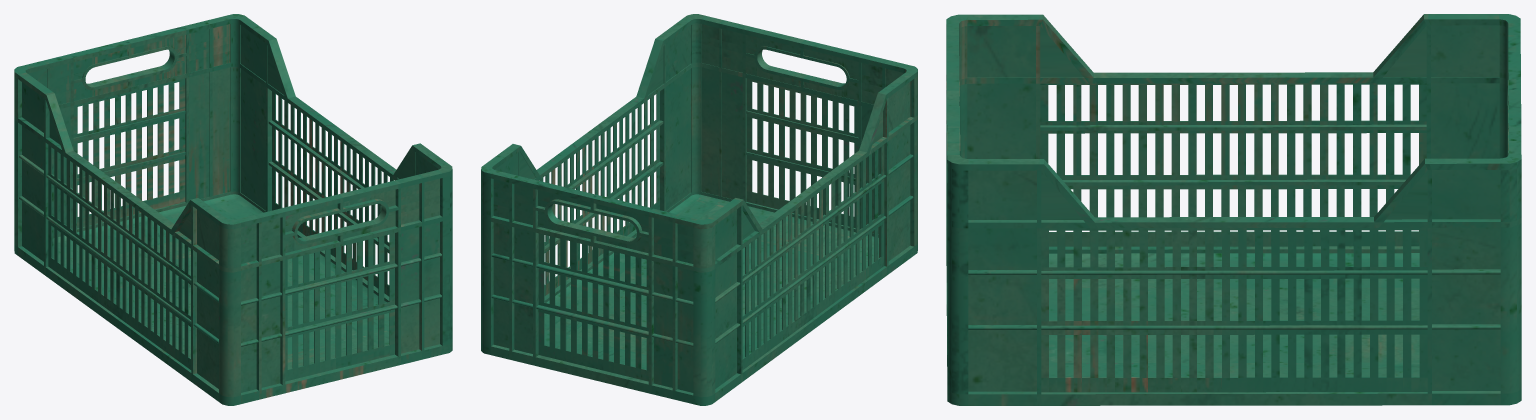
The model's file is KB3D_CTS_Crate_A.fbx.
3 renders of one model, left to right at view 1: azimuth 30°, elevation 25°; view 2: azimuth 150°, elevation 25°; view 3: azimuth 270°, elevation 25°, orthographic. The views are drawn at different scales.
Visible parts, largest first — view 1: KB3D_CTS_Crate_A_Main; view 2: KB3D_CTS_Crate_A_Main; view 3: KB3D_CTS_Crate_A_Main.
Part boxes in pixels (x1,y1,x2,y2): KB3D_CTS_Crate_A_Main: (14, 14, 452, 405); KB3D_CTS_Crate_A_Main: (481, 14, 917, 405); KB3D_CTS_Crate_A_Main: (946, 14, 1521, 405).
Bounding box in the file's own units: 35.3 × 26.44 × 57.03.
